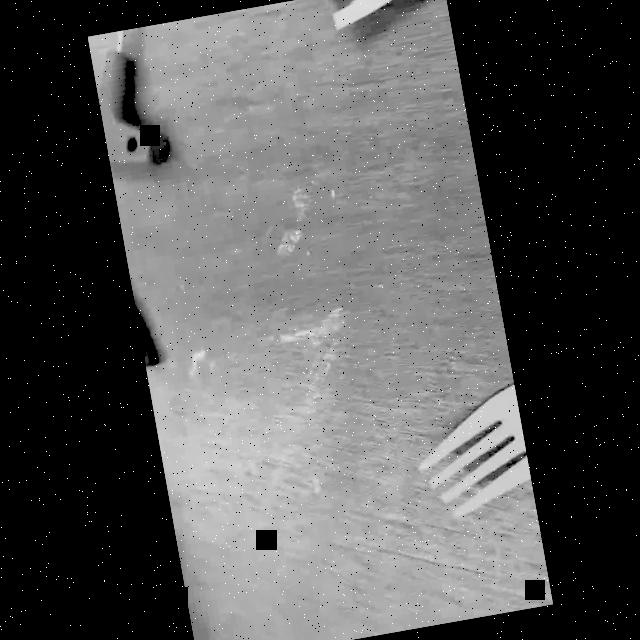plastic_cultery: (399, 380, 537, 532)
